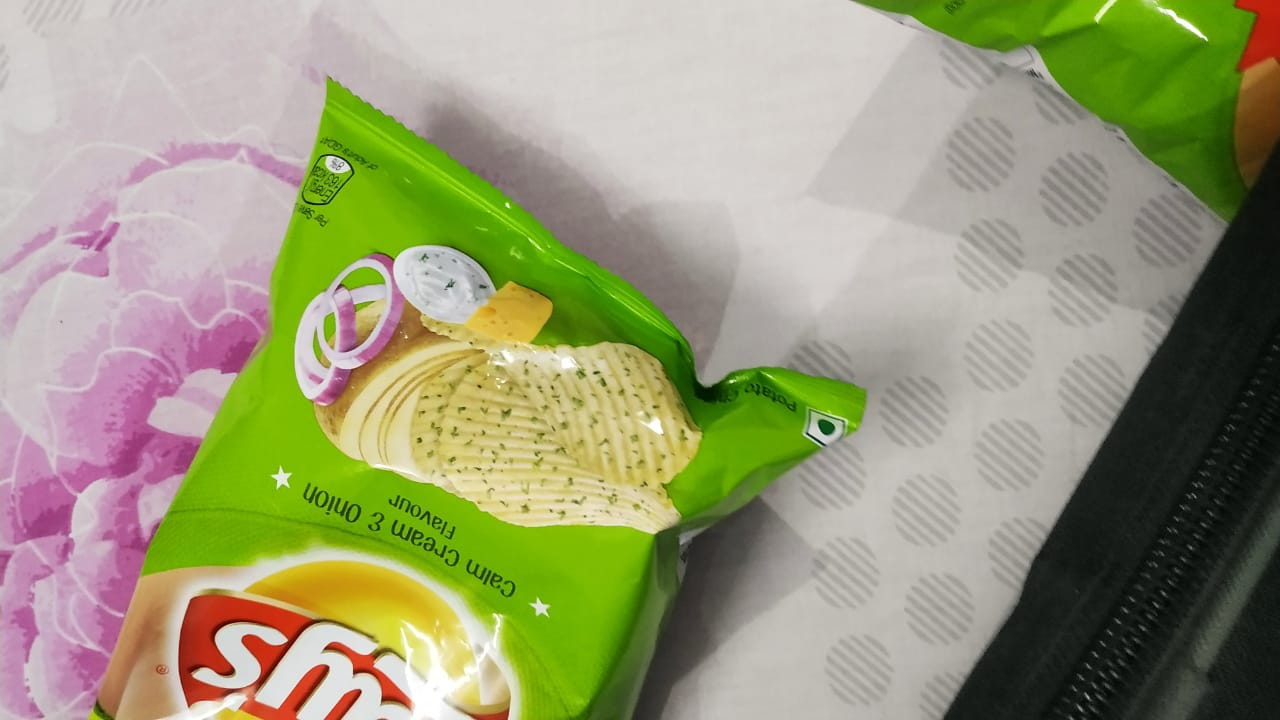lays chips: (84, 73, 887, 720)
